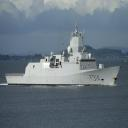Fragata: (5, 22, 123, 88)
